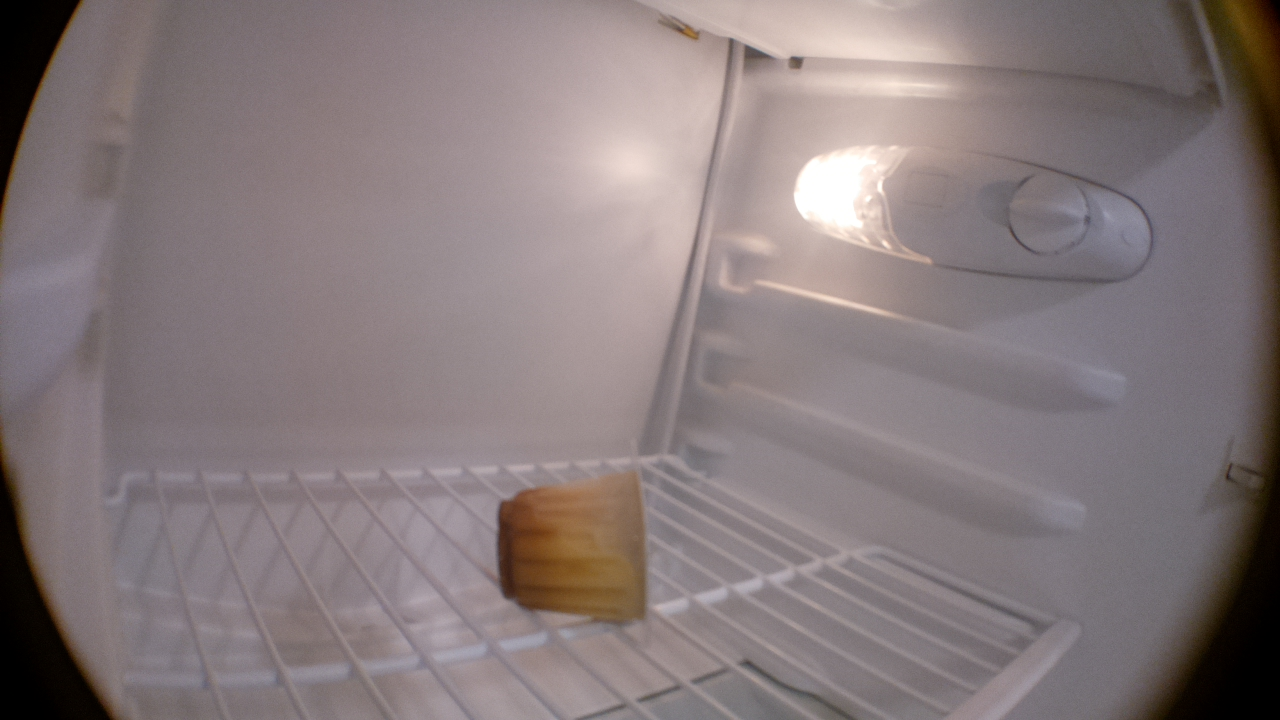caramel: (492, 430, 674, 648)
